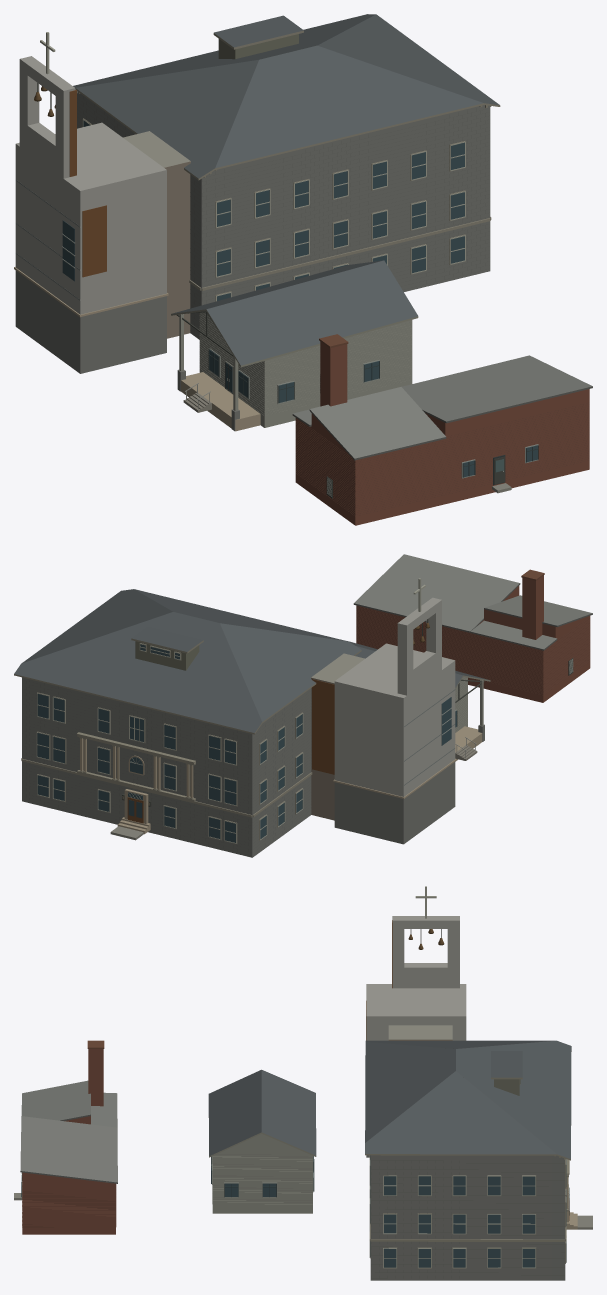
The model's file is site.glb.
3 views of the same model, one above another, from view 1: azimuth 30°, elevation 25°; view 2: azimuth 150°, elevation 25°; view 3: azimuth 270°, elevation 25° (orthographic). The views are drawn at different scales.
Visible parts, largest first — view 1: roof-fd7ba44a, roof-ca96d4a8, bushnell-facilities-1125, goodrich-quad-approaches; view 2: roof-fd7ba44a, roof-ca96d4a8, bushnell-facilities-1125, goodrich-quad-approaches; view 3: roof-fd7ba44a, roof-ca96d4a8, bushnell-facilities-1125.
Part boxes in pixels (<box>): roof-fd7ba44a: <box>14,14,500,373</box>; roof-ca96d4a8: <box>292,334,592,525</box>; bushnell-facilities-1125: <box>171,260,418,431</box>; goodrich-quad-approaches: <box>181,372,511,493</box>; roof-fd7ba44a: <box>14,578,456,857</box>; roof-ca96d4a8: <box>353,554,592,702</box>; bushnell-facilities-1125: <box>347,641,490,741</box>; goodrich-quad-approaches: <box>110,726,482,840</box>; roof-fd7ba44a: <box>365,886,571,1280</box>; roof-ca96d4a8: <box>20,1040,117,1234</box>; bushnell-facilities-1125: <box>208,1069,316,1213</box>.
Size of the model in its own units: 36.59 by 26.1 by 56.5.
